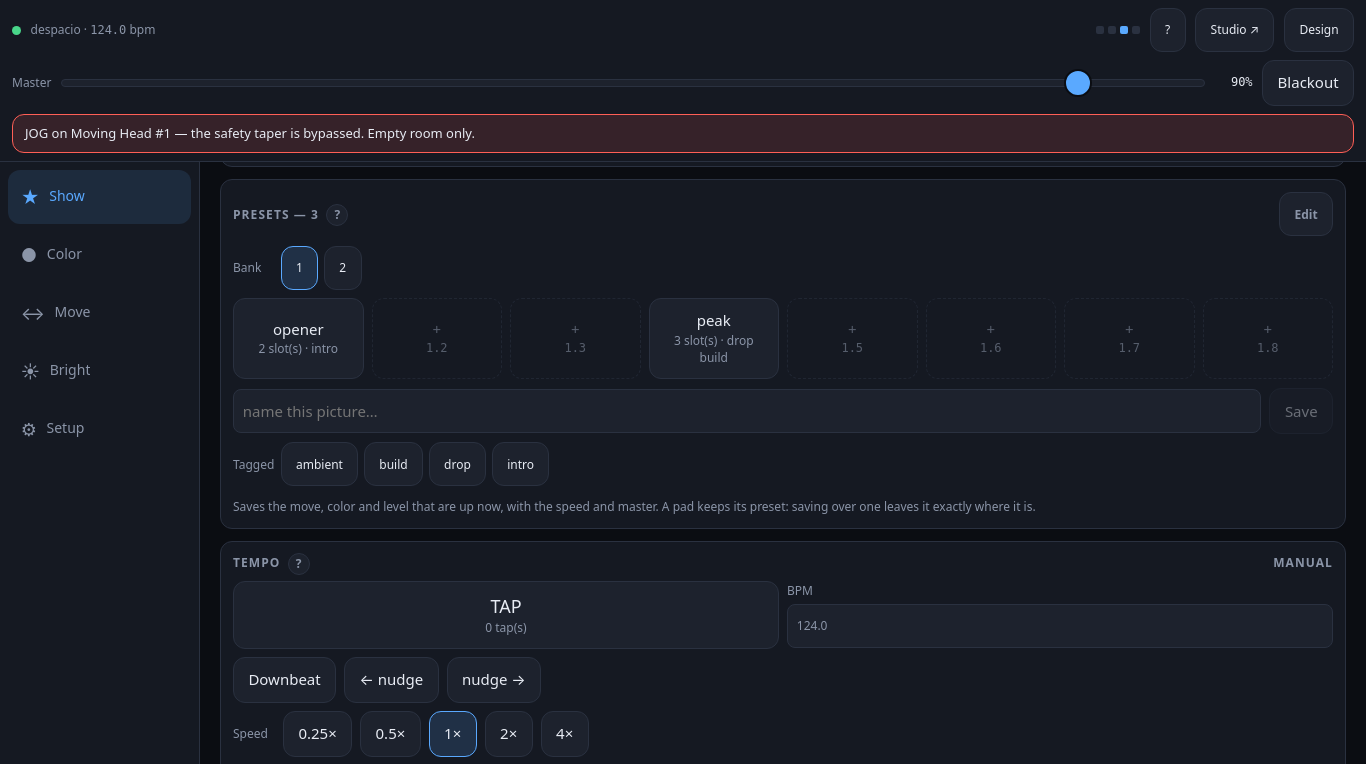
preset banks › finds every drop across banks by its tag
The width and height of the screenshot is (1366, 764).
(page scrolled)
Click the button "ambient" at (319, 464), box [281,442,358,486]
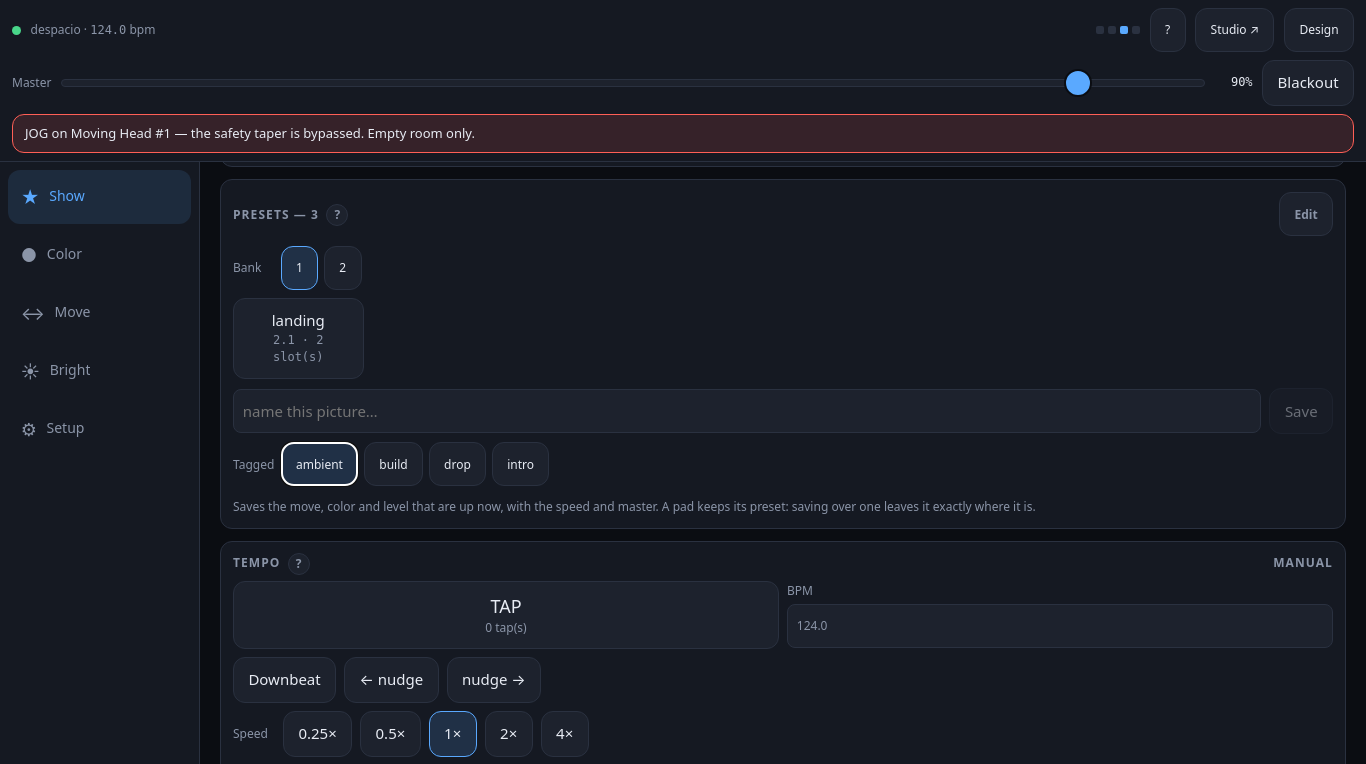
expect the button "landing 2.1 · 2 slot(s)" is shown: met, box [233,298,364,379]
expect the button "peak" is gone: met
